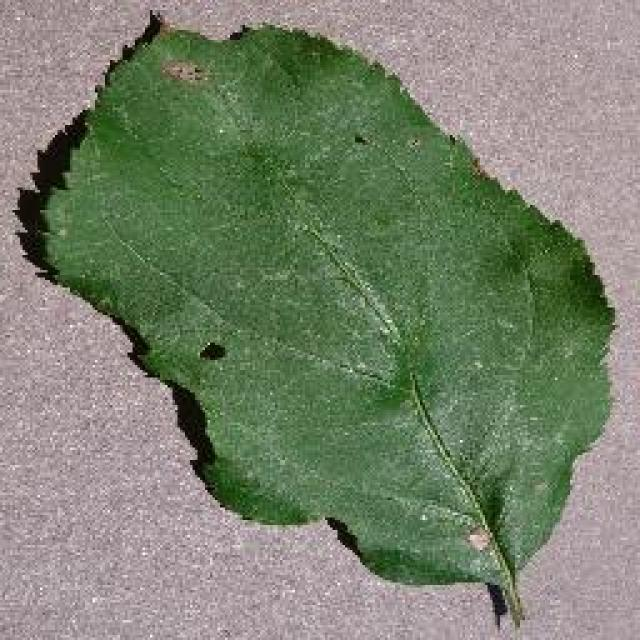Black_rot: (30, 8, 618, 632)
